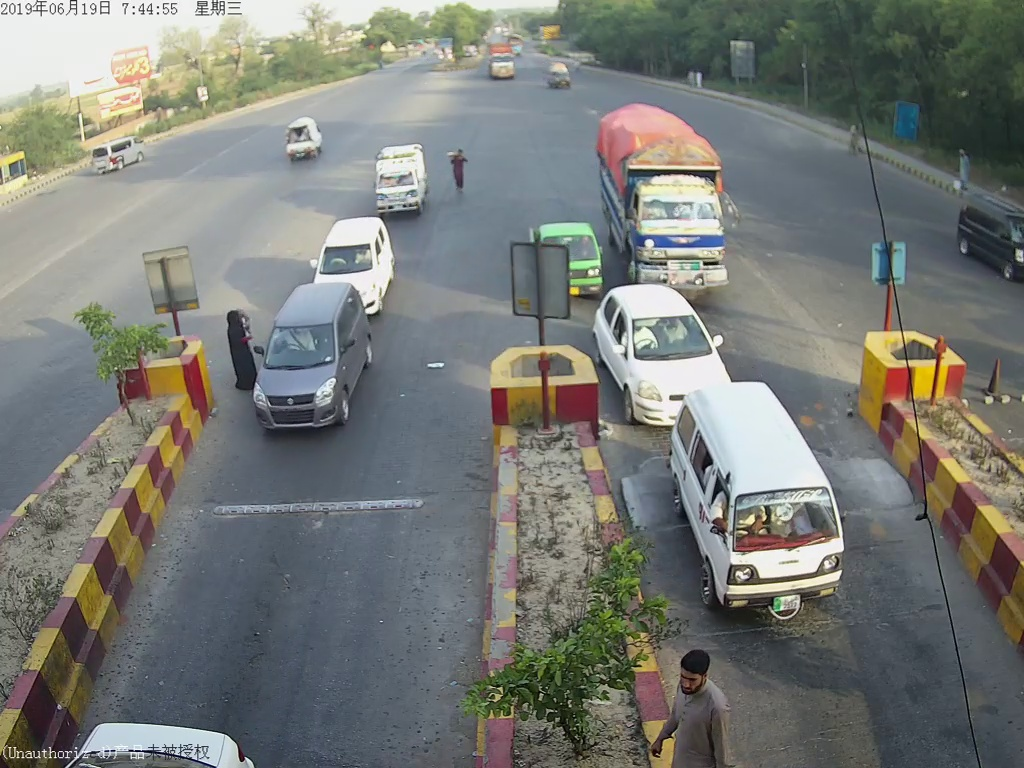Cat-1: (673, 395, 853, 620), (253, 292, 375, 420), (597, 293, 741, 386), (316, 220, 389, 286), (372, 146, 433, 222)
Cat-4: (592, 98, 736, 281)
